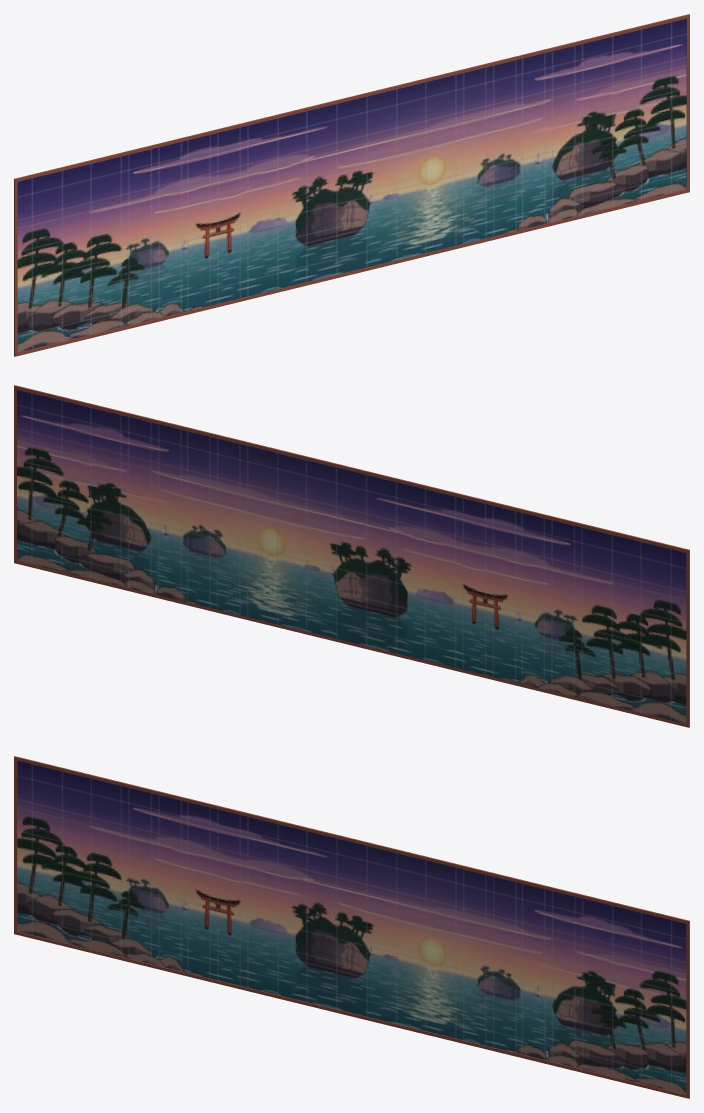
File: mural_sea.mobile.glb
The picture shows the model from 3 angles, top to bottom: view 1: azimuth 30°, elevation 25°; view 2: azimuth 150°, elevation 25°; view 3: azimuth 330°, elevation 25°; orthographic projection.
Visible parts, largest first — view 1: Panel, FrameH1, FrameH-1, FrameV-1, FrameV1; view 2: Panel, FrameH1, FrameH-1, FrameV-1; view 3: Panel, FrameH1, FrameH-1, FrameV1, FrameV-1.
Part boxes in pixels (x1,y1,x2,y2): Panel: [17, 18, 686, 352]; FrameH1: [14, 14, 689, 182]; FrameH-1: [14, 189, 689, 356]; FrameV-1: [14, 182, 17, 353]; FrameV1: [686, 18, 689, 189]; Panel: [17, 389, 686, 723]; FrameH1: [14, 385, 689, 553]; FrameH-1: [14, 560, 689, 727]; FrameV-1: [686, 553, 689, 724]; Panel: [17, 760, 686, 1094]; FrameH1: [14, 756, 689, 924]; FrameH-1: [14, 931, 689, 1098]; FrameV1: [686, 924, 689, 1095]; FrameV-1: [14, 760, 17, 931].
Bounding box in the file's own units: 18.16 × 4.56 × 0.0399.
Materials: 2 (1 with a texture image).
